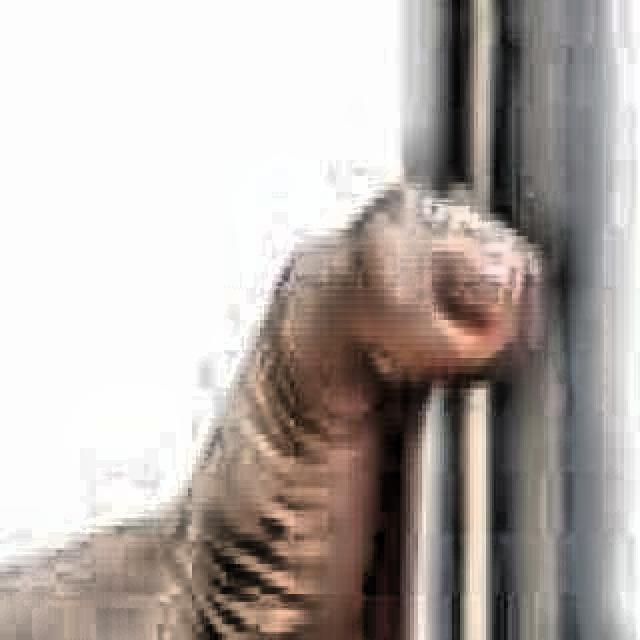metal: (396, 0, 640, 640)
